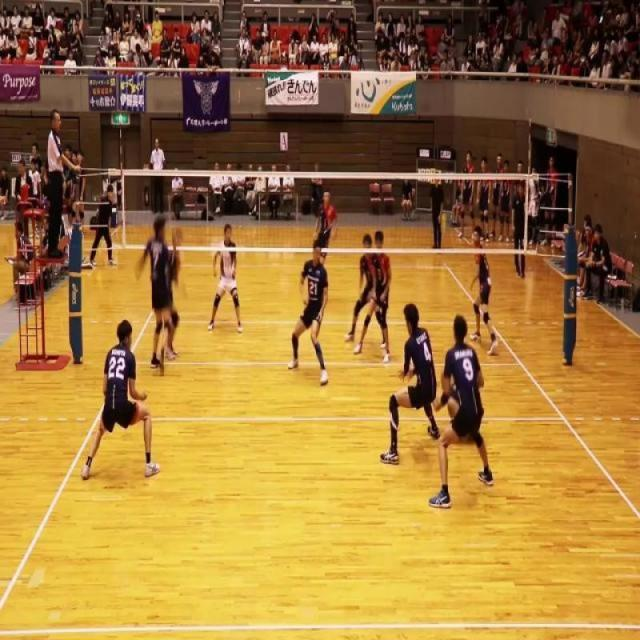volleyball: (402, 355, 414, 372)
